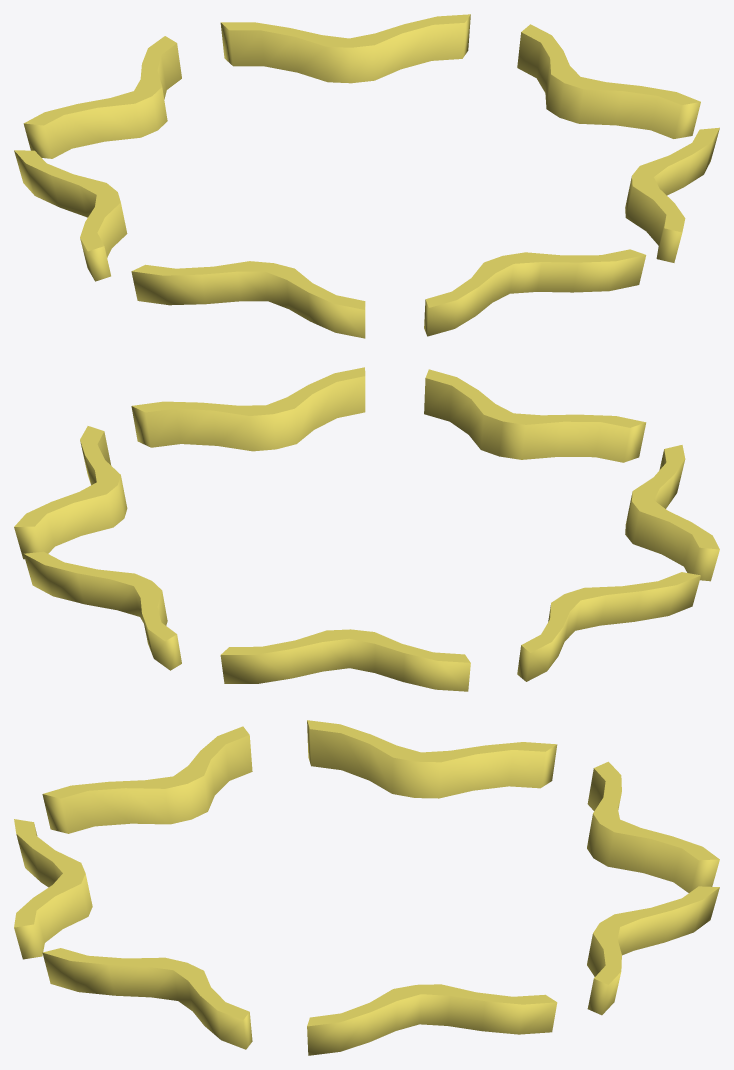
Rendered from ParadiseFloorDividerSlant.fbx.
3 views of the same model, one above another, from view 1: azimuth 30°, elevation 25°; view 2: azimuth 150°, elevation 25°; view 3: azimuth 270°, elevation 25° (orthographic). The views are drawn at different scales.
Parts seen in each view (by area): view 1: Dividers; view 2: Dividers; view 3: Dividers.
Boxes of the visible parts, <box> form: Dividers: <box>14,14,719,338</box>; Dividers: <box>14,367,719,691</box>; Dividers: <box>14,720,719,1055</box>.
Size of the model in its own units: 11663 by 592 by 11357.
